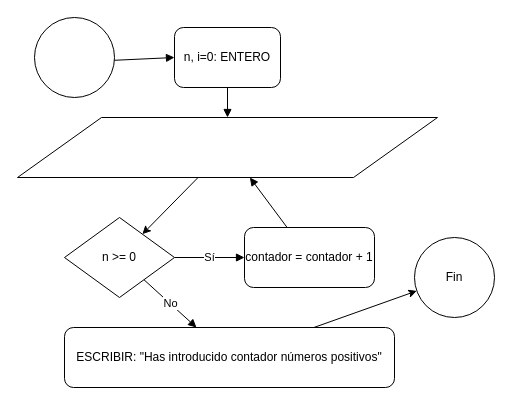
The diagram is 512 pixels wide and 405 high, and some of its shapes have lost their labels. The shapes that lost their labels are listed below. From the top down, each one's centre as x and y in pixels, then its label:
the point at 74,57: Inicio
the point at 227,147: ESCRIBIR: "Introduce un número (negativo para terminar)" LEER: n
